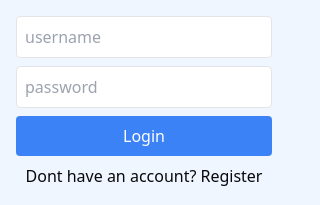
Scenario: RegisterAndLoginForm Component › switches to register form when clicking register button
Click the button "Register".
click(231, 176)  # box [200,164,262,188]
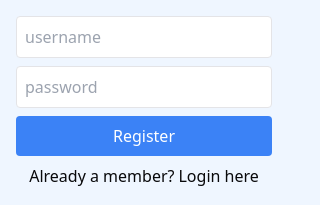
Now the button "Register" is shown, box [16,116,272,156]
Now the text "Already a member?" is shown, box [29,165,174,187]
